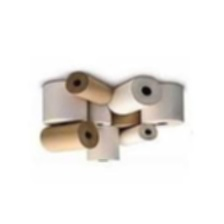tissue: (101, 73, 166, 119), (37, 76, 90, 129), (137, 78, 188, 131), (34, 117, 101, 156), (61, 68, 116, 109), (81, 121, 124, 165), (113, 120, 160, 150), (84, 96, 115, 129)
